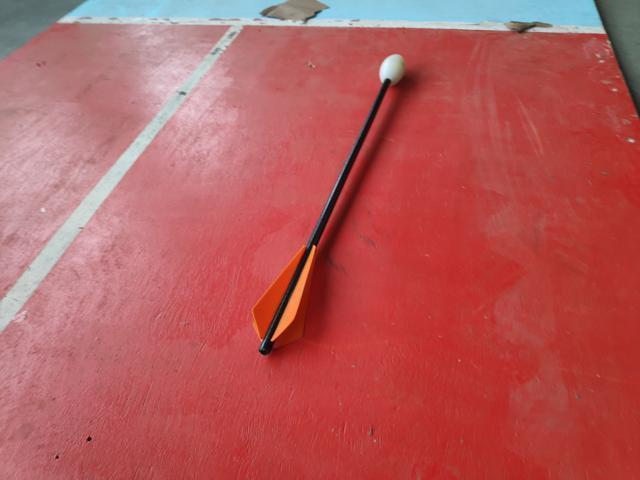Head: (371, 49, 409, 88)
Tail: (251, 242, 319, 359)
